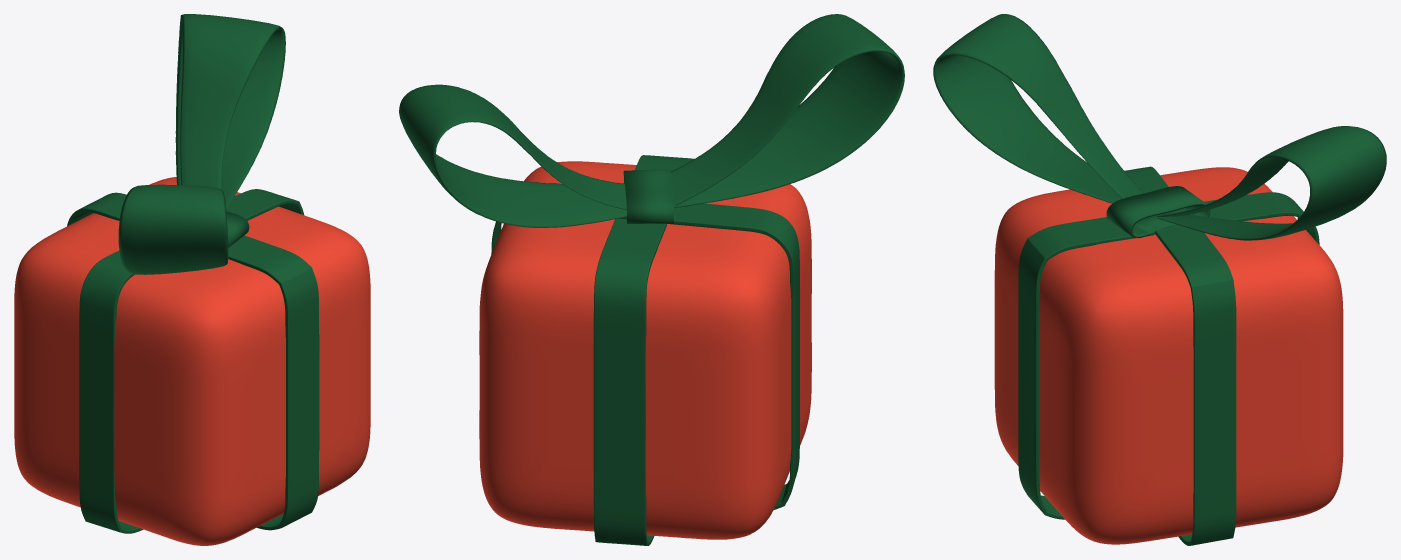
File: gift-transformed.glb
The picture shows the model from 3 angles, left to right: view 1: azimuth 30°, elevation 25°; view 2: azimuth 150°, elevation 25°; view 3: azimuth 270°, elevation 25°; orthographic projection. The views are drawn at different scales.
Visible parts, largest first — view 1: Gift, Bow.001, Cube.002, Cube.005, BezierCircle.001; view 2: Gift, Bow.001, Cube.002, Cube.005, BezierCircle.001; view 3: Gift, Bow.001, Cube.005, Cube.002, BezierCircle.001.
Boxes of the visible parts, x1,y1,x2,y2 form: Gift: (14, 177, 370, 545); Bow.001: (118, 14, 285, 274); Cube.002: (67, 192, 319, 530); Cube.005: (79, 189, 303, 533); BezierCircle.001: (226, 211, 249, 247); Gift: (479, 161, 811, 539); Bow.001: (399, 14, 904, 227); Cube.002: (593, 155, 694, 545); Cube.005: (491, 203, 799, 509); BezierCircle.001: (623, 169, 673, 223); Gift: (994, 167, 1343, 544); Bow.001: (933, 14, 1386, 240); Cube.005: (1124, 166, 1236, 545); Cube.002: (1018, 192, 1319, 519); BezierCircle.001: (1106, 186, 1210, 238).
Size of the model in its own units: 0.4213 by 0.4956 by 0.4973.
